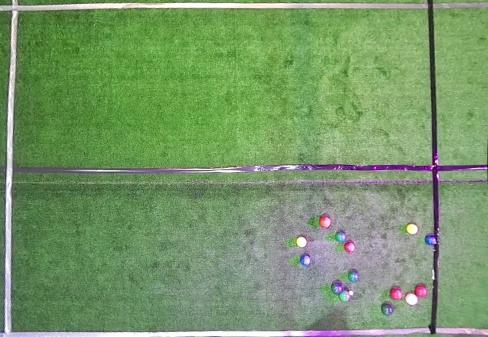blue: (424, 236, 437, 245), (300, 255, 311, 265)
green: (331, 282, 343, 294), (338, 290, 350, 302), (381, 304, 393, 316), (335, 231, 347, 242), (348, 271, 359, 282)
red: (405, 293, 418, 306), (414, 285, 427, 298), (390, 288, 403, 300), (319, 216, 331, 228), (344, 241, 355, 253)
vline: (428, 0, 487, 336), (0, 0, 20, 336)
white: (349, 291, 353, 296)
yellow: (296, 237, 307, 247), (407, 224, 418, 234)
